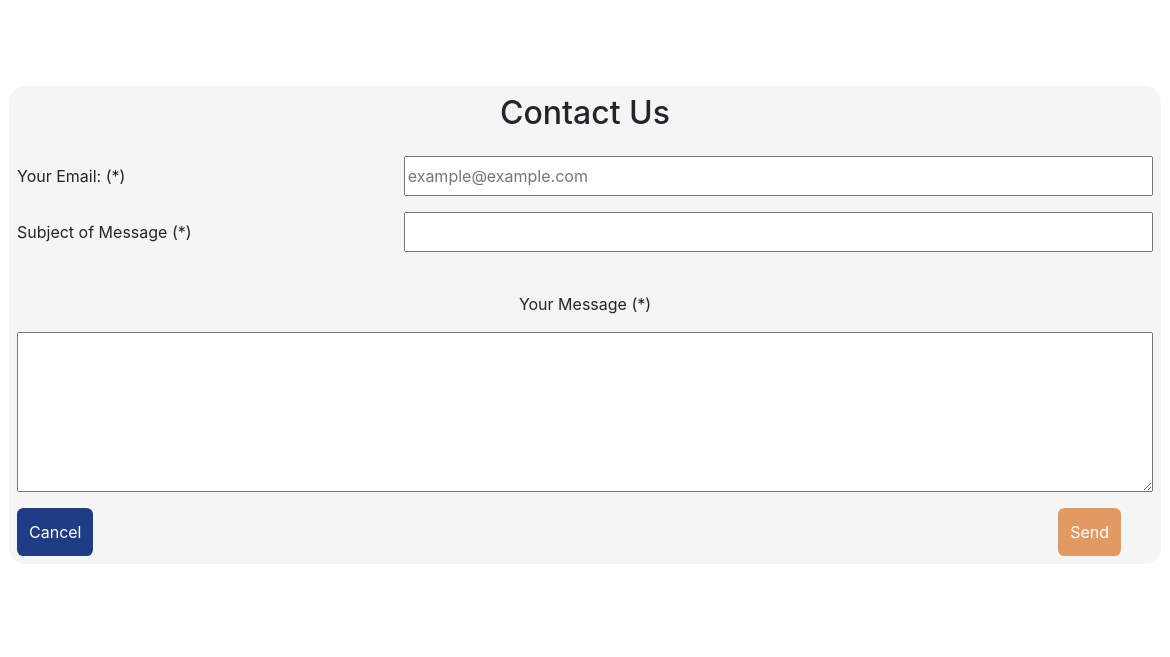
Scenario: Contact Page Tests › Email should match pattern
Expected: the field labelled "Your Email: (*)" is shown, [404, 156, 1153, 196]
Click the button with test id "contact-submit" at x=1090, y=532, box [1058, 508, 1121, 556]
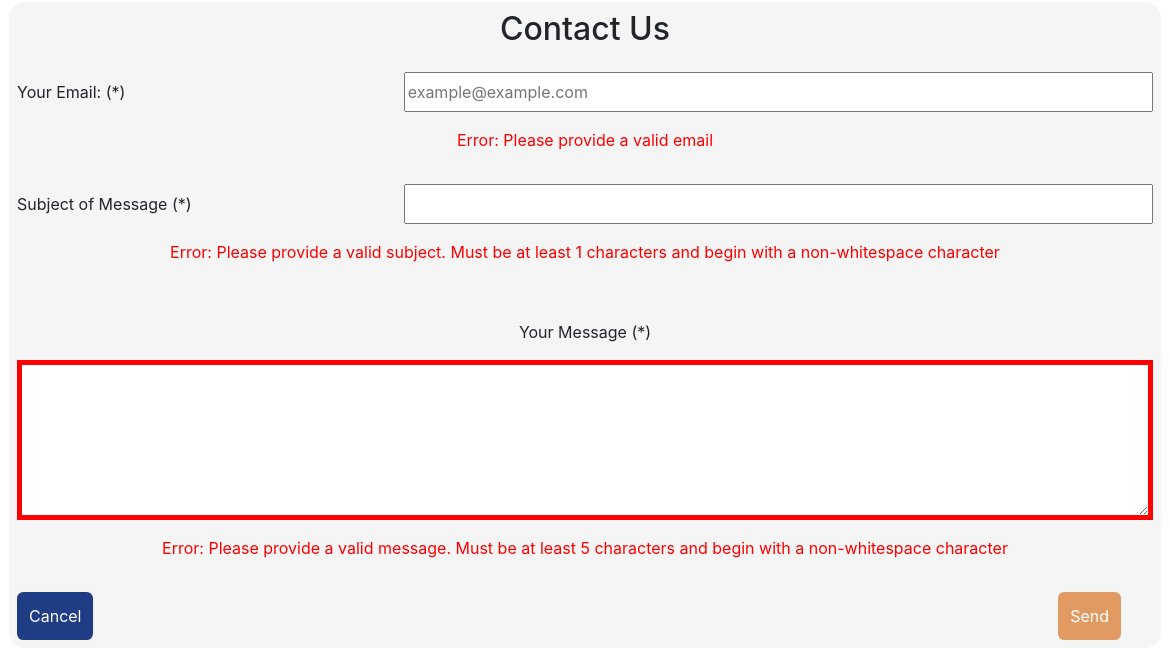
Expected: the text "Error: Please provide a valid email" is shown, [457, 128, 713, 152]
